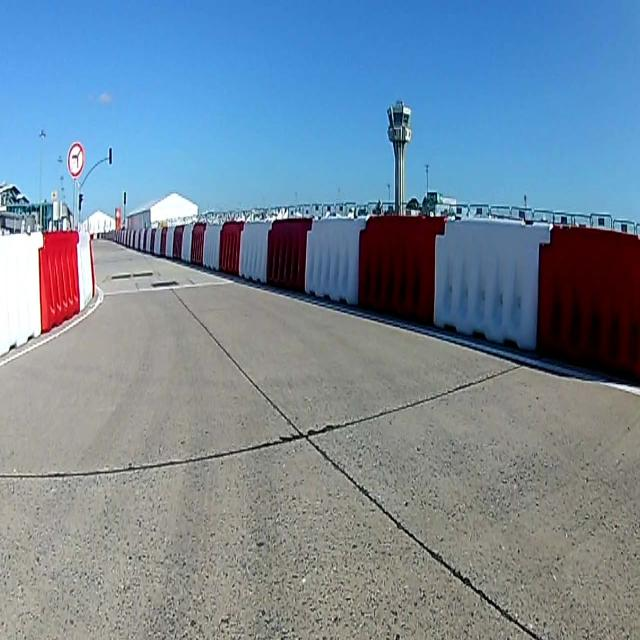soladonulmez: (67, 139, 83, 176)
